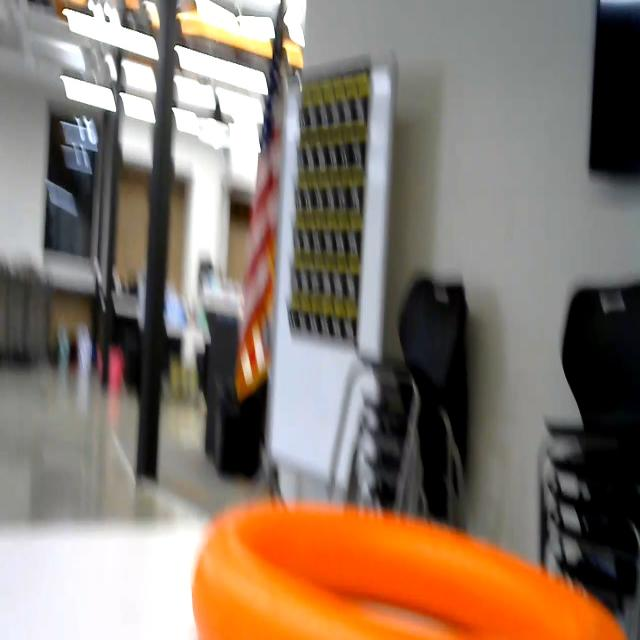note: (186, 505, 640, 640)
